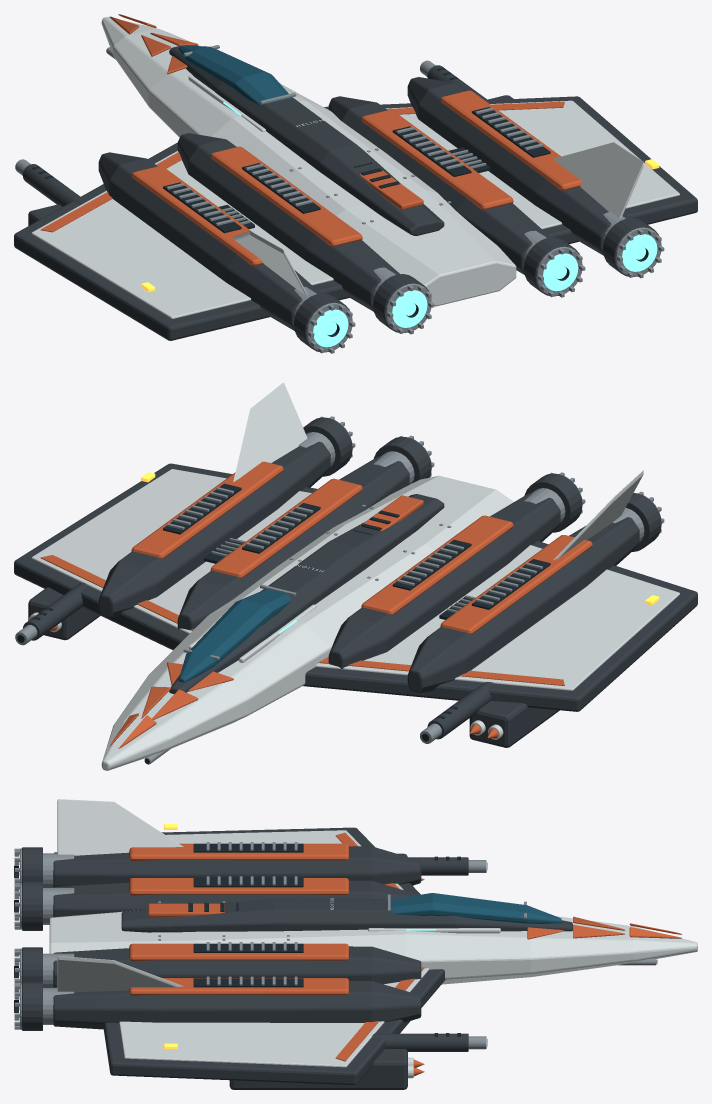
Rendered from ship_aegis.glb.
3 renders of one model, top to bottom at view 1: azimuth 30°, elevation 25°; view 2: azimuth 150°, elevation 25°; view 3: azimuth 270°, elevation 25°, orthographic. The views are drawn at different scales.
Visible parts, largest first — view 1: aegis_titanium, aegis_ceramic, aegis_hull, aegis_machinery, aegis_graphite, aegis_engine, aegis_canopy; view 2: aegis_titanium, aegis_ceramic, aegis_hull, aegis_machinery, aegis_graphite, aegis_canopy; view 3: aegis_titanium, aegis_ceramic, aegis_hull, aegis_machinery, aegis_graphite, aegis_canopy.
Boxes of the visible parts, x1=… form: aegis_titanium: x1=14, y1=46, x2=697, y2=352; aegis_ceramic: x1=31, y1=17, x2=679, y2=318; aegis_hull: x1=40, y1=14, x2=581, y2=266; aegis_machinery: x1=15, y1=45, x2=664, y2=353; aegis_graphite: x1=32, y1=67, x2=648, y2=336; aegis_engine: x1=223, y1=102, x2=657, y2=347; aegis_canopy: x1=178, y1=45, x2=289, y2=105; aegis_titanium: x1=14, y1=417, x2=697, y2=747; aegis_ceramic: x1=29, y1=382, x2=679, y2=770; aegis_hull: x1=30, y1=461, x2=592, y2=748; aegis_machinery: x1=15, y1=416, x2=664, y2=764; aegis_graphite: x1=17, y1=483, x2=550, y2=764; aegis_canopy: x1=178, y1=589, x2=292, y2=682; aegis_titanium: x1=22, y1=827, x2=572, y2=1089; aegis_ceramic: x1=49, y1=799, x2=697, y2=1078; aegis_hull: x1=129, y1=832, x2=682, y2=1076; aegis_machinery: x1=14, y1=842, x2=656, y2=1049; aegis_graphite: x1=14, y1=843, x2=657, y2=1046; aegis_canopy: x1=387, y1=893, x2=561, y2=923.
Size of the model in its own units: 15.39 by 3.17 by 18.04.
